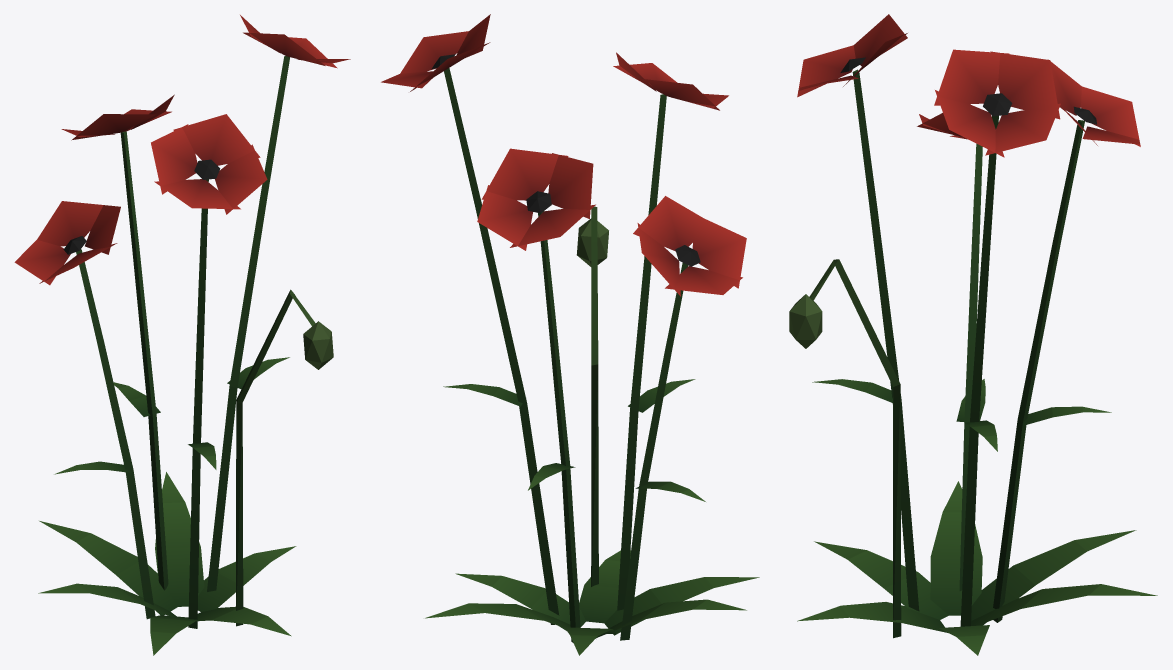
File: flowers_poppy_a.glb
3 views of the same model, side by side, from view 1: azimuth 30°, elevation 25°; view 2: azimuth 150°, elevation 25°; view 3: azimuth 270°, elevation 25° (orthographic). The views are drawn at different scales.
Visible parts, largest first — view 1: flowers_poppy_a; view 2: flowers_poppy_a; view 3: flowers_poppy_a.
Boxes of the visible parts, <box> form: flowers_poppy_a: <box>14,15,350,655</box>; flowers_poppy_a: <box>381,14,759,655</box>; flowers_poppy_a: <box>789,14,1157,655</box>.
Size of the model in its own units: 0.2937 by 0.4985 by 0.266.
